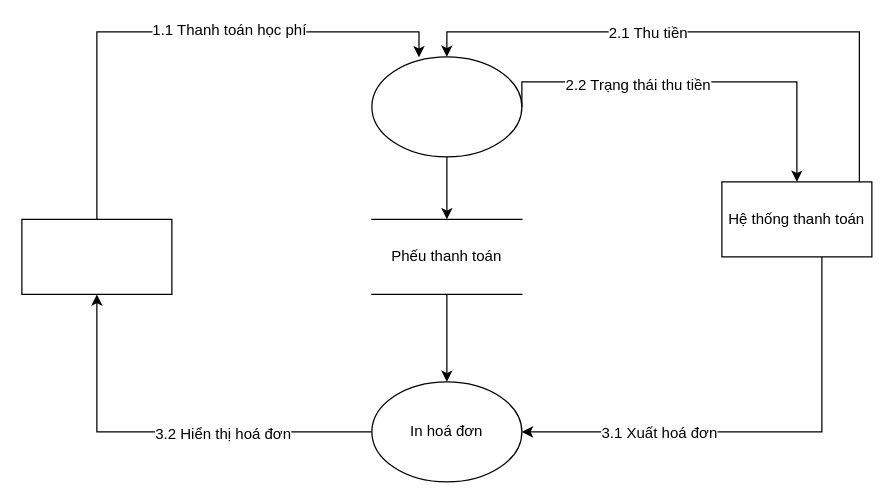
The diagram is 894 pixels wide and 504 high, and some of its shapes have lost their labels. Here are the shapes that lost their labels. From the top down, the centre of each, then its label:
[446,106]: Thanh toán học phí
[96,256]: Sinh viên
